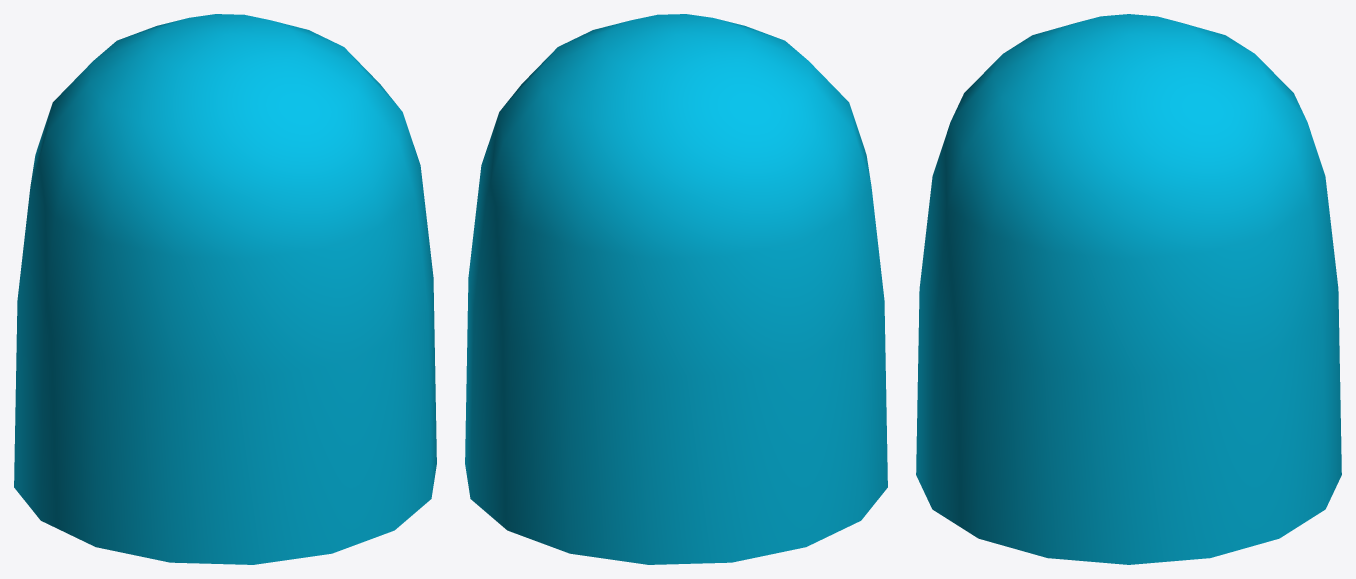
The model's file is F_Mole_Body.fbx.
3 renders of one model, left to right at view 1: azimuth 30°, elevation 25°; view 2: azimuth 150°, elevation 25°; view 3: azimuth 270°, elevation 25°, orthographic.
Visible parts, largest first — view 1: F_Mole_Body; view 2: F_Mole_Body; view 3: F_Mole_Body.
Boxes of the visible parts, <box> form: F_Mole_Body: <box>14,14,436,564</box>; F_Mole_Body: <box>465,14,887,564</box>; F_Mole_Body: <box>916,14,1341,564</box>.
Bounding box in the file's own units: 366 × 418 × 366.
